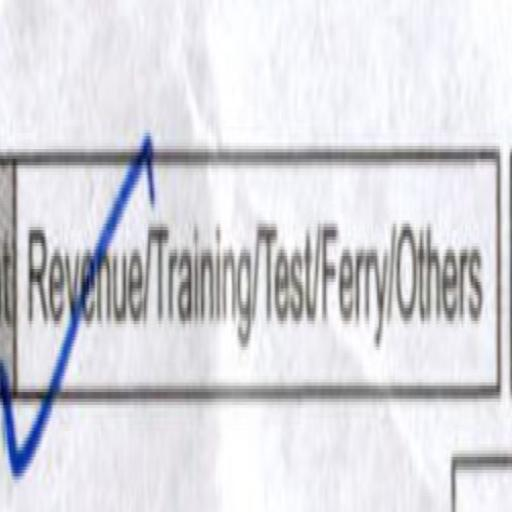check: (21, 110, 148, 468)
